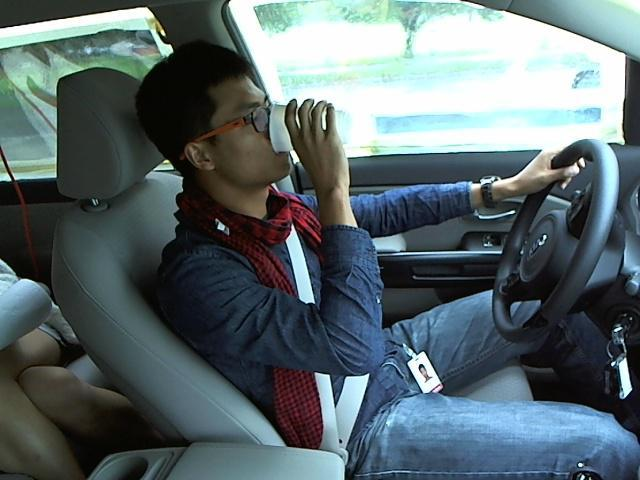Drinking: (182, 71, 355, 184)
